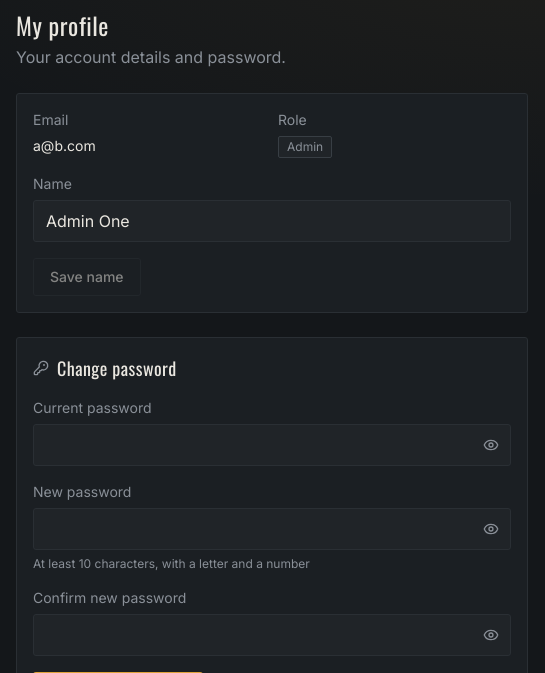
Scenario: ProfilePage › shows account details and saves a new display name
Expected: the text "a@b.com" is shown, [33,137,96,154]
Replace the text in the field labelled "Name" with "Renamed". click: (272, 221)
box: [33,200,511,242]
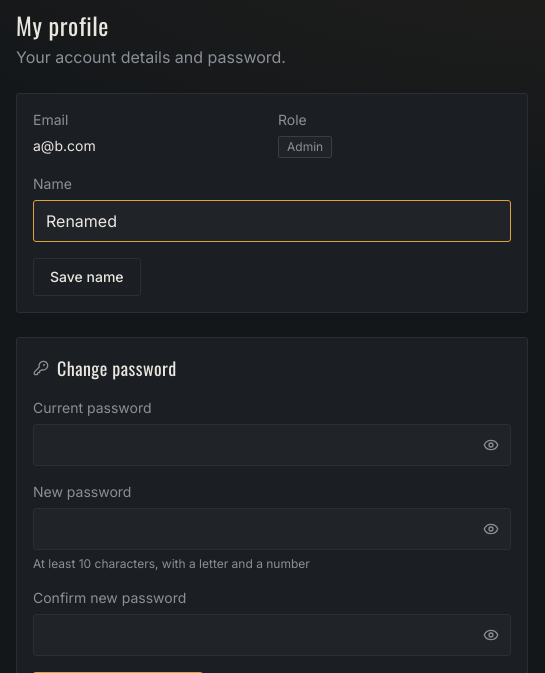
Click the button "Save name". click: click(87, 277)
box: [33,258,140,296]
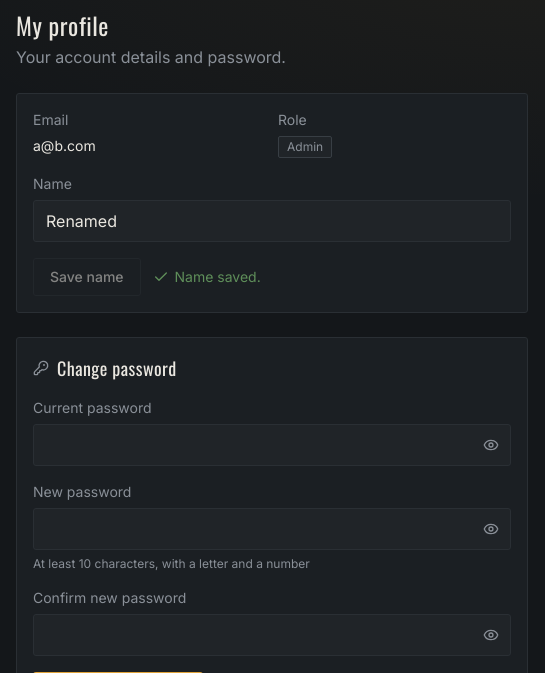
Result: the text "Name saved." is shown at [152,267,261,287]
